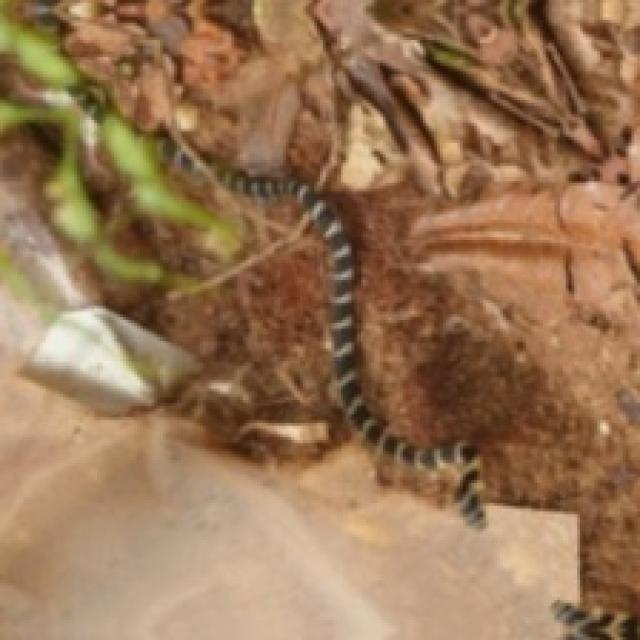king cobra: (231, 174, 483, 526)
